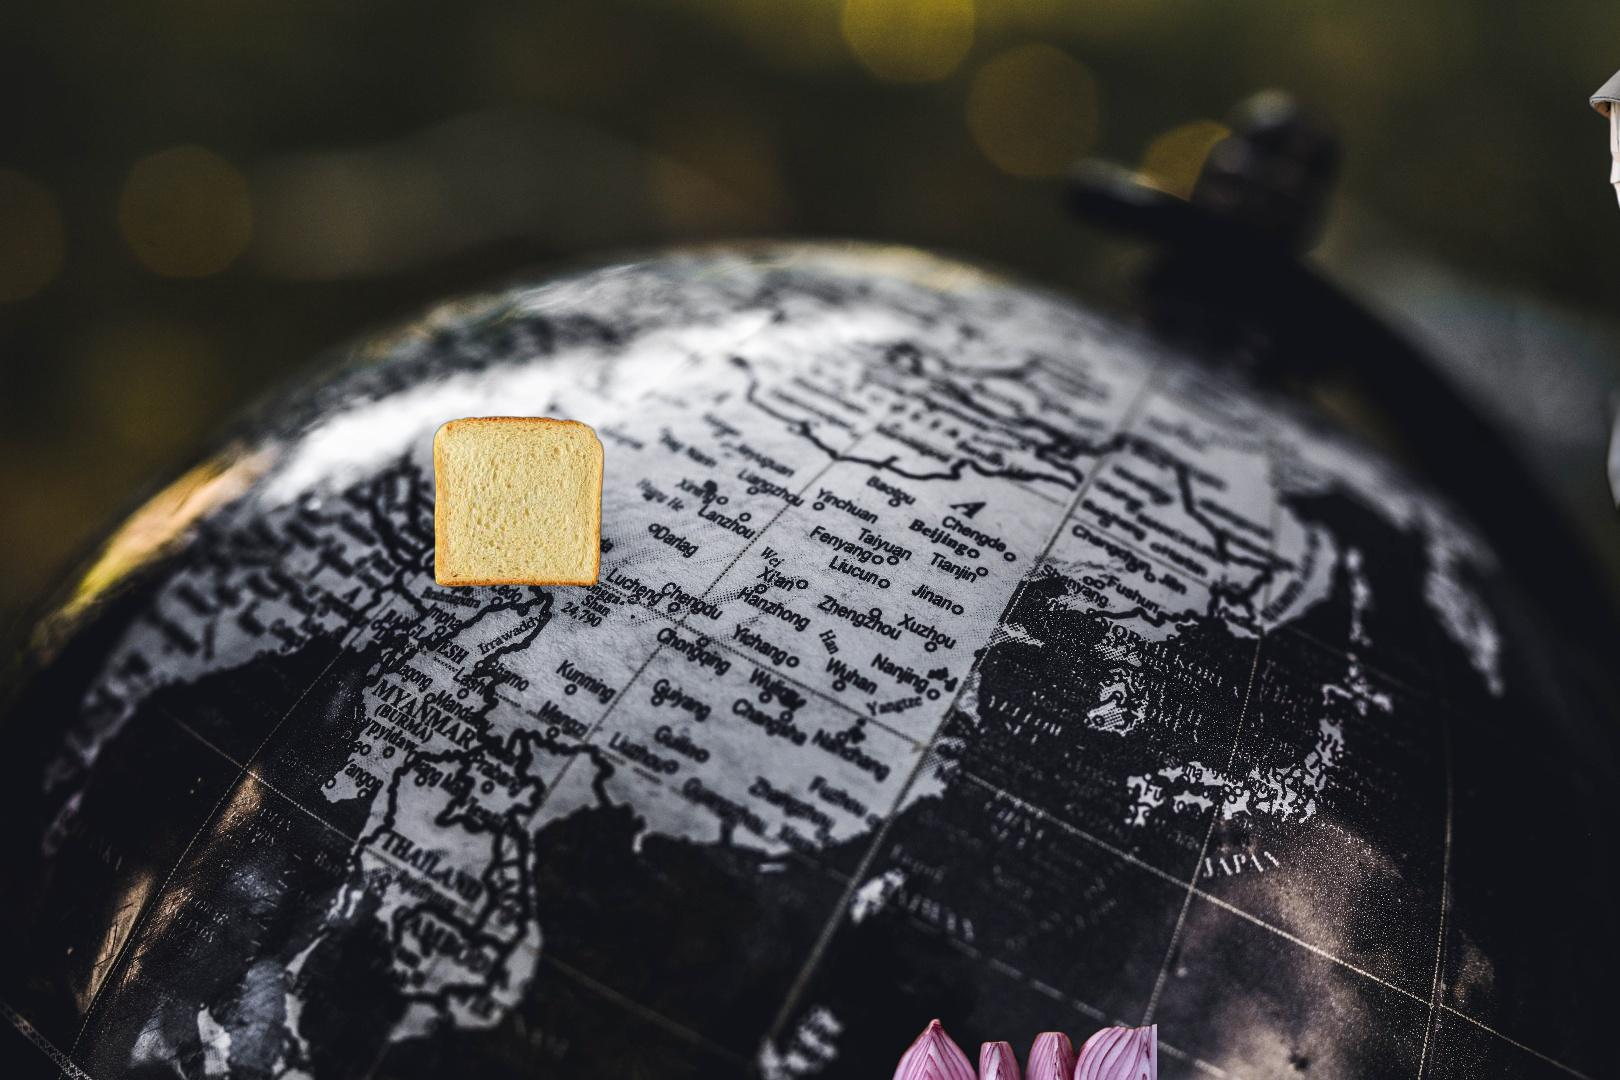biological: (430, 413, 607, 590), (880, 1015, 1157, 1080)
trashbox-cardboard: (1308, 23, 1620, 525)
